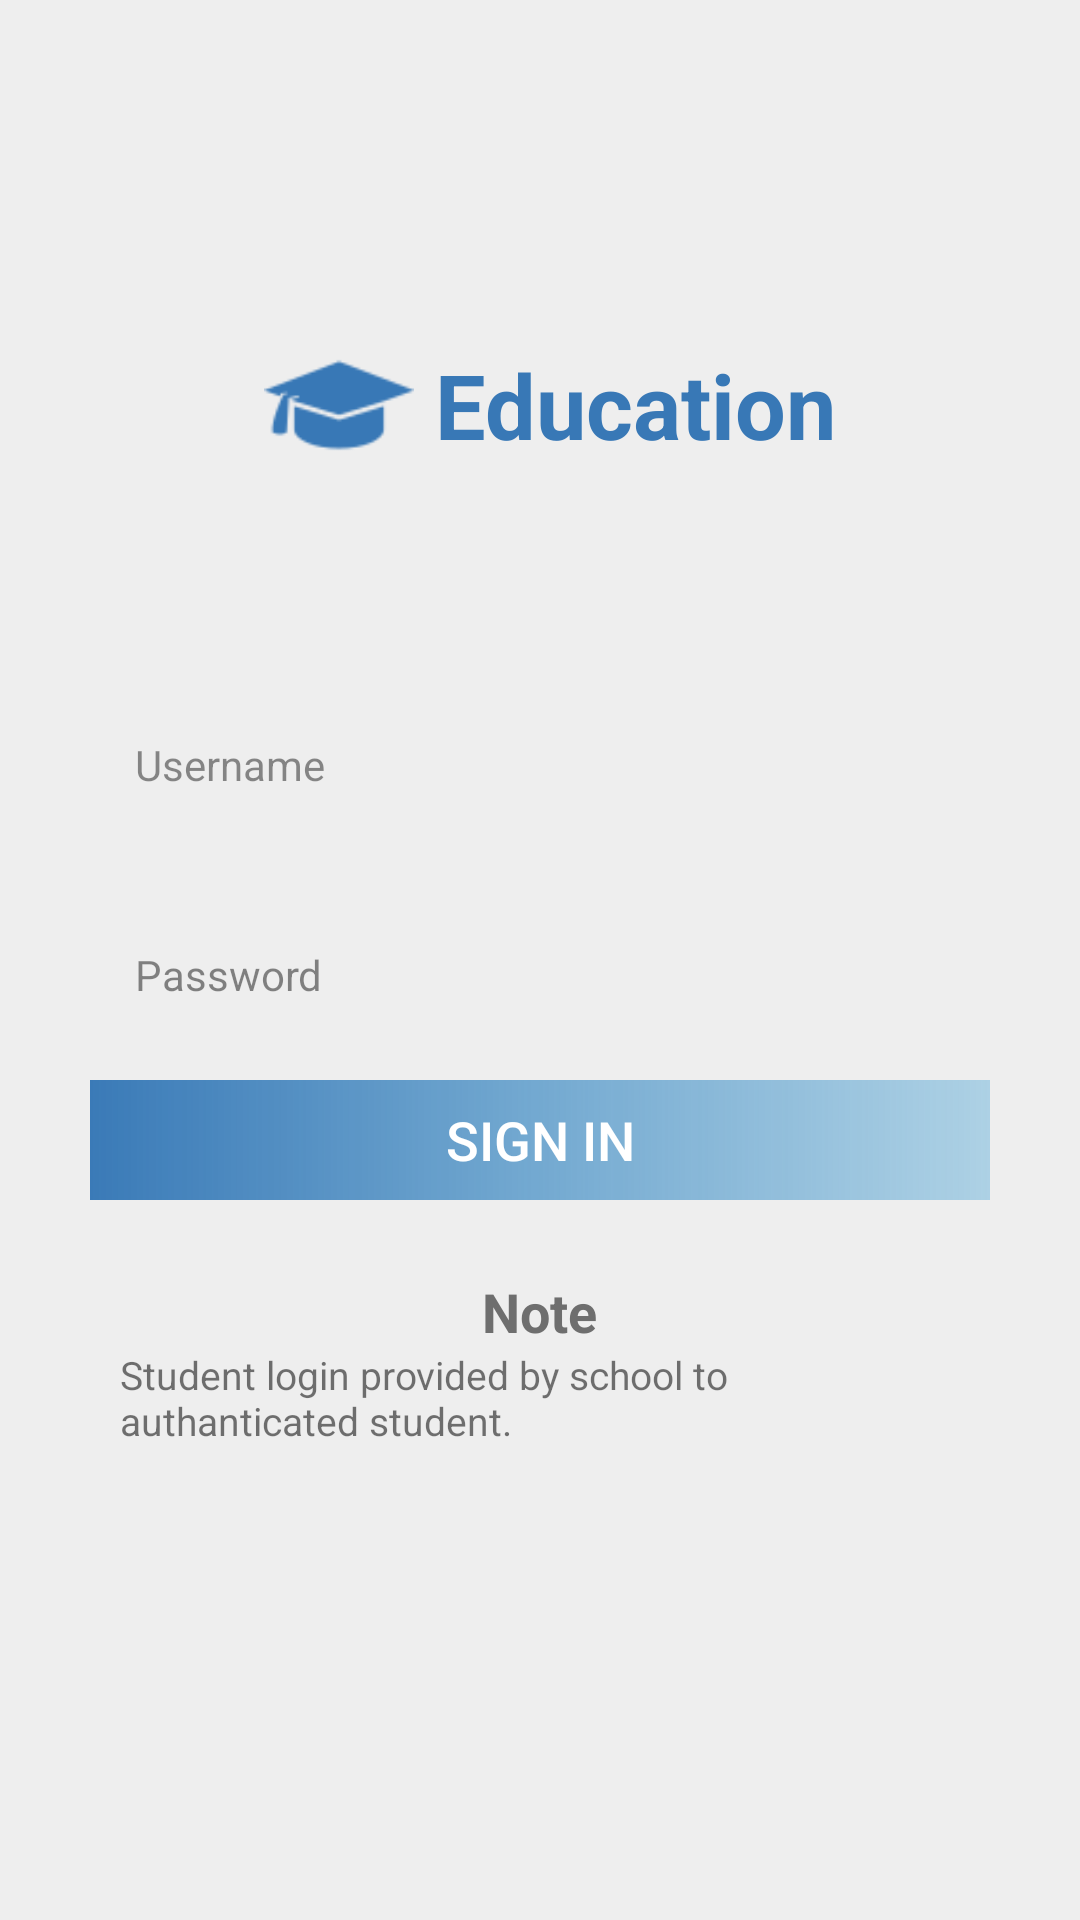

Where to tap for icons on this 1080×1920 app screen, as (x,y):
hat: (339,405)
